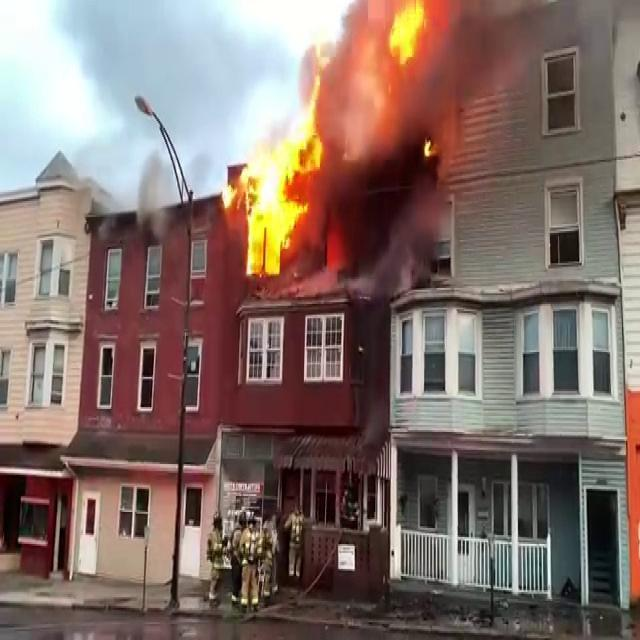Fire: (223, 66, 328, 278), (384, 0, 437, 69)
Smoke: (304, 0, 469, 277)
